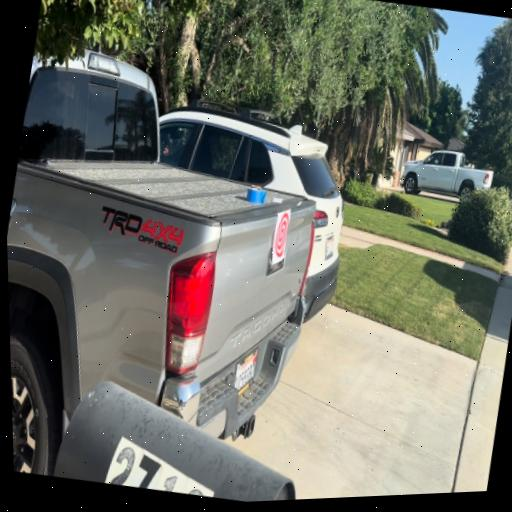bullseye: (273, 208, 290, 262)
